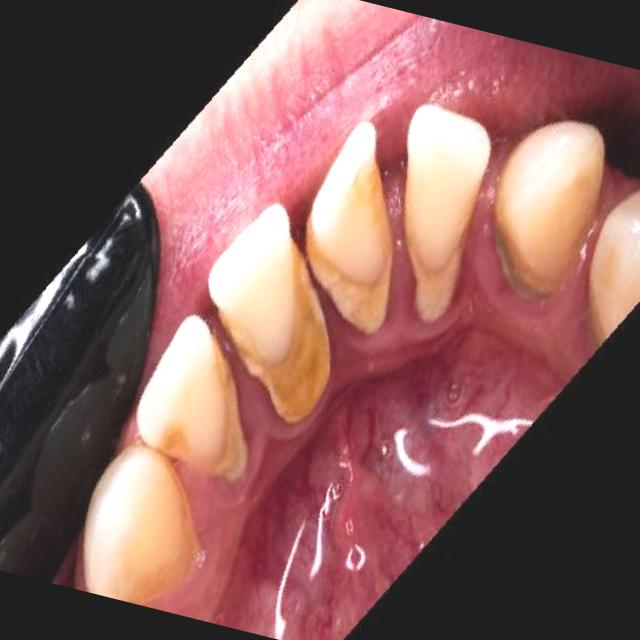calculus: (275, 154, 425, 340), (129, 320, 275, 509), (211, 242, 347, 430), (366, 128, 497, 316)
